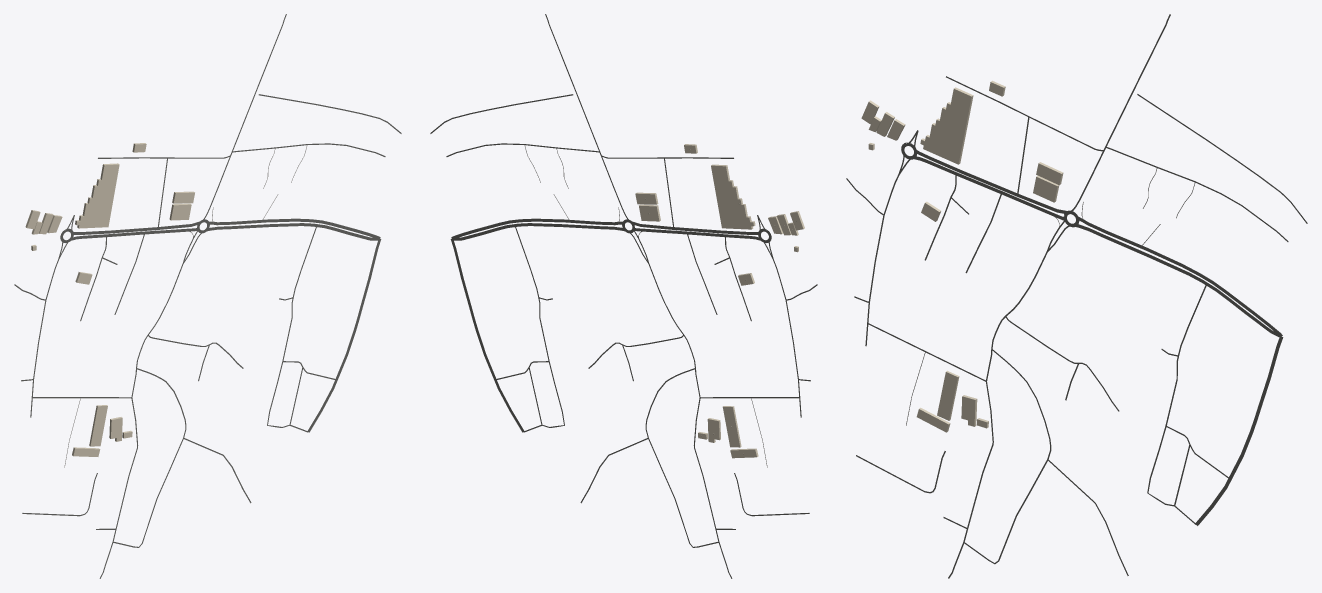
File: historic-palestine-11_28_3529_3220.glb
3 renders of one model, left to right at view 1: azimuth 30°, elevation 25°; view 2: azimuth 150°, elevation 25°; view 3: azimuth 330°, elevation 25°, orthographic. The views are drawn at different scales.
Visible parts, largest first — view 1: Building_, Road شارع الإقليمي, Road شارع بلاطة, Road شارع بلاطة.001, Road .014, Building_.001; view 2: Building_, Road شارع الإقليمي, Road شارع بلاطة, Road شارع بلاطة.001, Road .014, Building_.001; view 3: Building_, Road شارع بلاطة.001, Road شارع الإقليمي, Road شارع بلاطة, Road .014, Building_.001, Road شارع بلاطة.003, Road شارع بلاطة.002.
Part boxes in pixels (bbox=[...]): Building_: bbox=[75, 163, 119, 228]; Road شارع الإقليمي: bbox=[307, 239, 381, 432]; Road شارع بلاطة: bbox=[206, 223, 379, 240]; Road شارع بلاطة.001: bbox=[209, 218, 380, 238]; Road .014: bbox=[99, 264, 183, 578]; Building_.001: bbox=[89, 405, 107, 446]; Building_: bbox=[711, 164, 755, 229]; Road شارع الإقليمي: bbox=[450, 239, 523, 432]; Road شارع بلاطة: bbox=[452, 223, 624, 240]; Road شارع بلاطة.001: bbox=[451, 218, 622, 239]; Road .014: bbox=[648, 264, 732, 578]; Building_.001: bbox=[722, 406, 741, 447]; Building_: bbox=[920, 87, 973, 164]; Road شارع بلاطة.001: bbox=[1077, 216, 1282, 336]; Road شارع الإقليمي: bbox=[1195, 335, 1283, 525]; Road شارع بلاطة: bbox=[1075, 223, 1281, 337]; Road .014: bbox=[948, 251, 1047, 578]; Building_.001: bbox=[937, 370, 959, 420]; Road شارع بلاطة.003: bbox=[915, 150, 1067, 214]; Road شارع بلاطة.002: bbox=[914, 156, 1065, 220].
Size of the model in its own units: 1121 by 1436 by 8.7.
